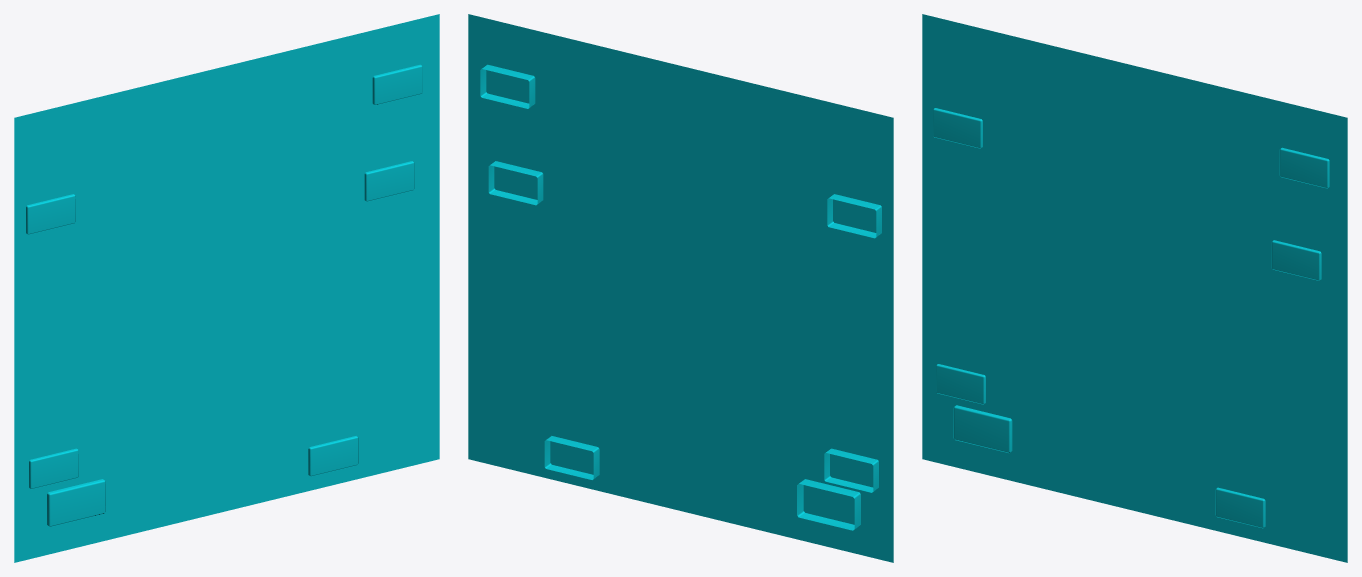
Rendered from H_Wall_1.fbx.
3 views of the same model, side by side, from view 1: azimuth 30°, elevation 25°; view 2: azimuth 150°, elevation 25°; view 3: azimuth 330°, elevation 25° (orthographic).
Visible parts, largest first — view 1: H_Wall_1; view 2: H_Wall_1; view 3: H_Wall_1.
Boxes of the visible parts, x1=… form: H_Wall_1: x1=14, y1=14, x2=439, y2=562; H_Wall_1: x1=468, y1=14, x2=893, y2=562; H_Wall_1: x1=922, y1=14, x2=1347, y2=562.
Size of the model in its own units: 4 by 4 by 0.1402.
